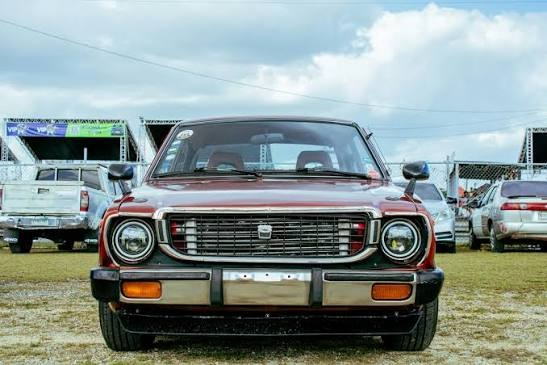car: (89, 113, 441, 347), (1, 124, 138, 253), (1, 126, 134, 248), (4, 162, 115, 254), (466, 178, 547, 254), (402, 179, 463, 248), (402, 179, 462, 247)
